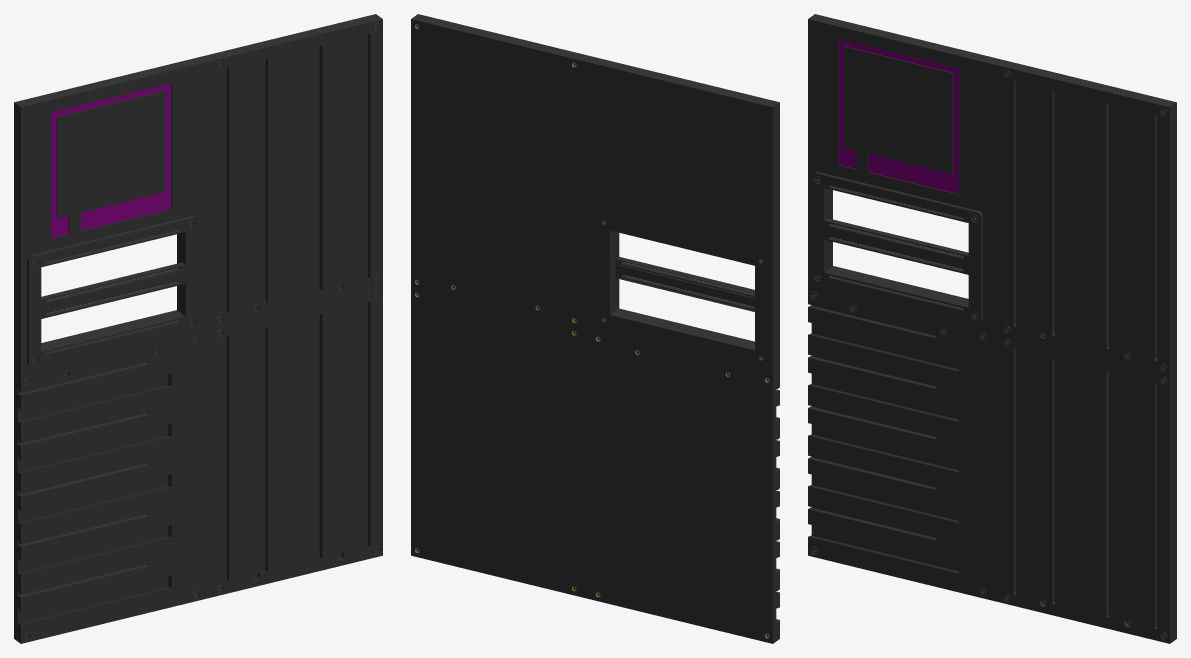
3 views of the same model, side by side, from view 1: azimuth 30°, elevation 25°; view 2: azimuth 150°, elevation 25°; view 3: azimuth 330°, elevation 25° (orthographic).
Visible parts, largest first — view 1: ISO 4762 - M3 x 6.020; view 2: ISO 4762 - M3 x 6.020; view 3: ISO 4762 - M3 x 6.020.
Part boxes in pixels (box(x1,y1,x2,y2)): ISO 4762 - M3 x 6.020: box(14, 14, 382, 643); ISO 4762 - M3 x 6.020: box(411, 14, 779, 643); ISO 4762 - M3 x 6.020: box(808, 14, 1176, 643).
Size of the model in its own units: 0.3 by 0.425 by 0.013.
